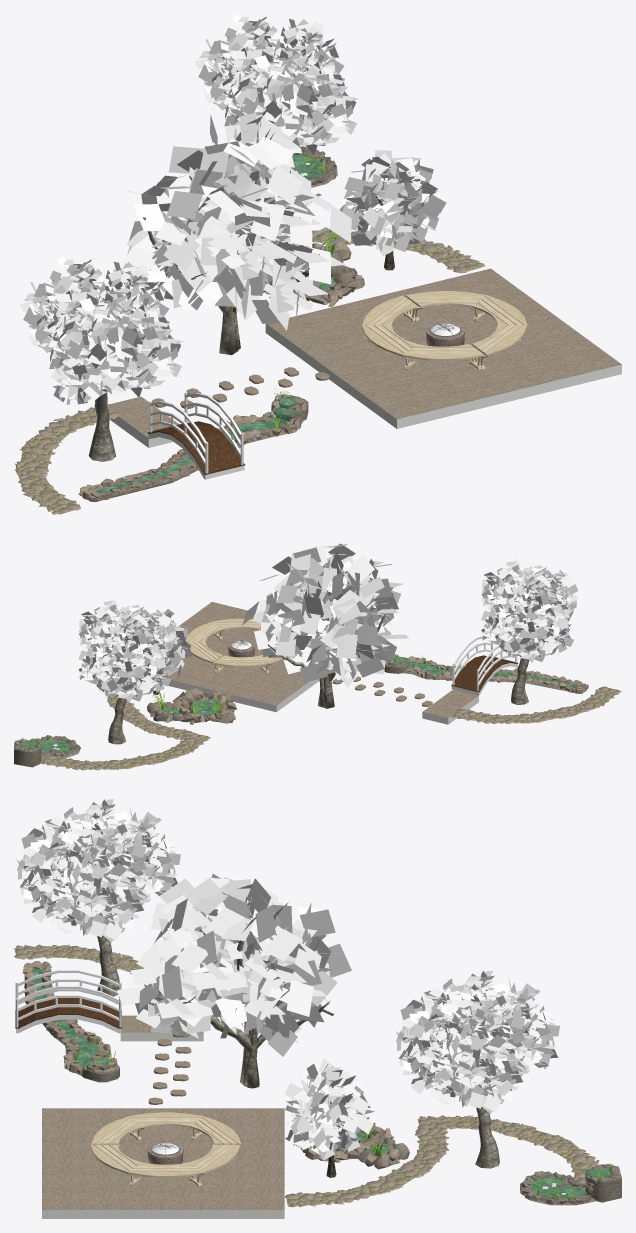
Rendered from japanese_garden.glb.
3 renders of one model, top to bottom at view 1: azimuth 30°, elevation 25°; view 2: azimuth 150°, elevation 25°; view 3: azimuth 270°, elevation 25°, orthographic. The views are drawn at different scales.
Parts seen in each view (by area): view 1: Object_18, Object_15, Object_34, Object_33, Object_31, Object_2, Object_10, Object_11, Object_35, Object_13, Object_17, Object_16 (+3 smaller); view 2: Object_15, Object_18, Object_33, Object_34, Object_2, Object_17, Object_10, Object_11, Object_19, Object_8, Object_30, Object_35 (+7 smaller); view 3: Object_18, Object_15, Object_34, Object_33, Object_31, Object_2, Object_11, Object_10, Object_30, Object_17, Object_19, Object_16 (+6 smaller).
Boxes of the visible parts, left/top/right/bottom form: Object_18: left=19, top=14, right=358, bottom=404; Object_15: left=123, top=112, right=361, bottom=330; Object_34: left=107, top=268, right=621, bottom=437; Object_33: left=14, top=229, right=484, bottom=514; Object_31: left=339, top=150, right=446, bottom=256; Object_2: left=362, top=291, right=527, bottom=370; Object_10: left=111, top=324, right=621, bottom=447; Object_11: left=148, top=392, right=244, bottom=479; Object_35: left=147, top=421, right=245, bottom=474; Object_13: left=94, top=396, right=301, bottom=492; Object_17: left=19, top=231, right=485, bottom=514; Object_16: left=143, top=124, right=330, bottom=355; Object_15: left=242, top=543, right=409, bottom=687; Object_18: left=78, top=559, right=578, bottom=702; Object_33: left=41, top=654, right=621, bottom=770; Object_34: left=166, top=602, right=478, bottom=717; Object_2: left=185, top=618, right=282, bottom=673; Object_17: left=39, top=688, right=618, bottom=769; Object_10: left=168, top=679, right=478, bottom=724; Object_11: left=451, top=636, right=517, bottom=695; Object_19: left=101, top=584, right=556, bottom=744; Object_8: left=147, top=688, right=236, bottom=724; Object_30: left=14, top=735, right=80, bottom=767; Object_35: left=451, top=655, right=518, bottom=692; Object_18: left=16, top=799, right=559, bottom=1113; Object_15: left=117, top=874, right=351, bottom=1056; Object_34: left=42, top=1015, right=284, bottom=1209; Object_33: left=14, top=944, right=599, bottom=1207; Object_31: left=285, top=1058, right=374, bottom=1160; Object_2: left=90, top=1112, right=241, bottom=1186; Object_11: left=15, top=970, right=121, bottom=1033; Object_10: left=42, top=1032, right=284, bottom=1218; Object_30: left=520, top=1164, right=621, bottom=1205; Object_17: left=14, top=946, right=596, bottom=1206; Object_19: left=24, top=856, right=506, bottom=1168; Object_16: left=144, top=896, right=334, bottom=1088.
Size of the model in its own units: 15.84 by 6.17 by 15.43.
34 materials, 24 textured.
